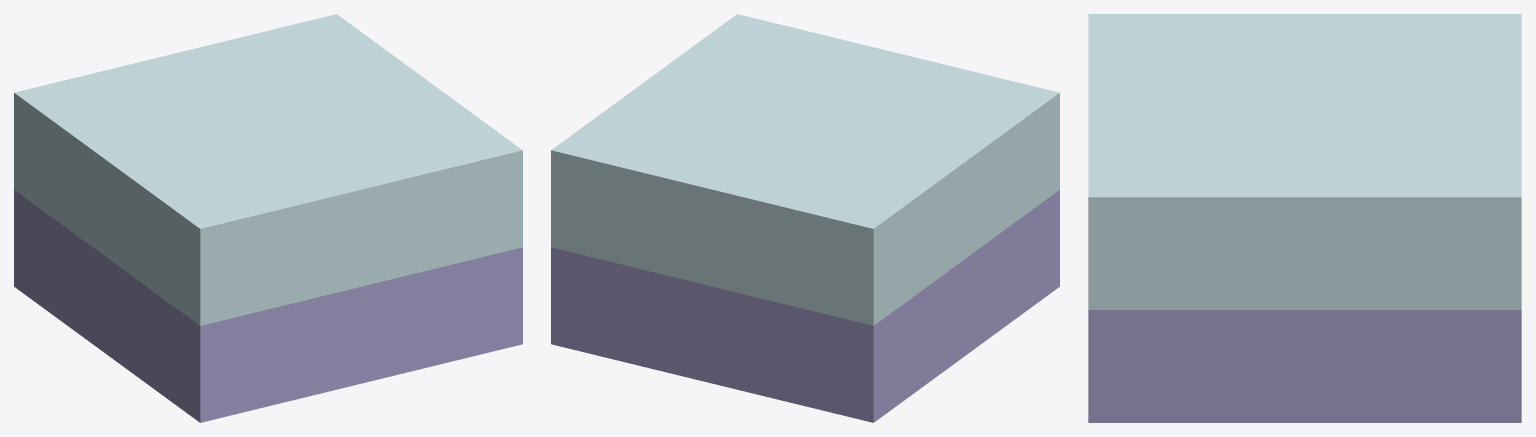
The model's file is towerSquare_middleA.glb.
The picture shows the model from 3 angles, left to right: view 1: azimuth 30°, elevation 25°; view 2: azimuth 150°, elevation 25°; view 3: azimuth 270°, elevation 25°; orthographic projection. The views are drawn at different scales.
Parts seen in each view (by area): view 1: towerSquare_middleA; view 2: towerSquare_middleA; view 3: towerSquare_middleA.
Part boxes in pixels (x1,y1,x2,y2): towerSquare_middleA: (14,14,522,422); towerSquare_middleA: (551,14,1059,422); towerSquare_middleA: (1088,14,1521,422).
Bounding box in the file's own units: 0.87 × 0.5 × 0.87.
